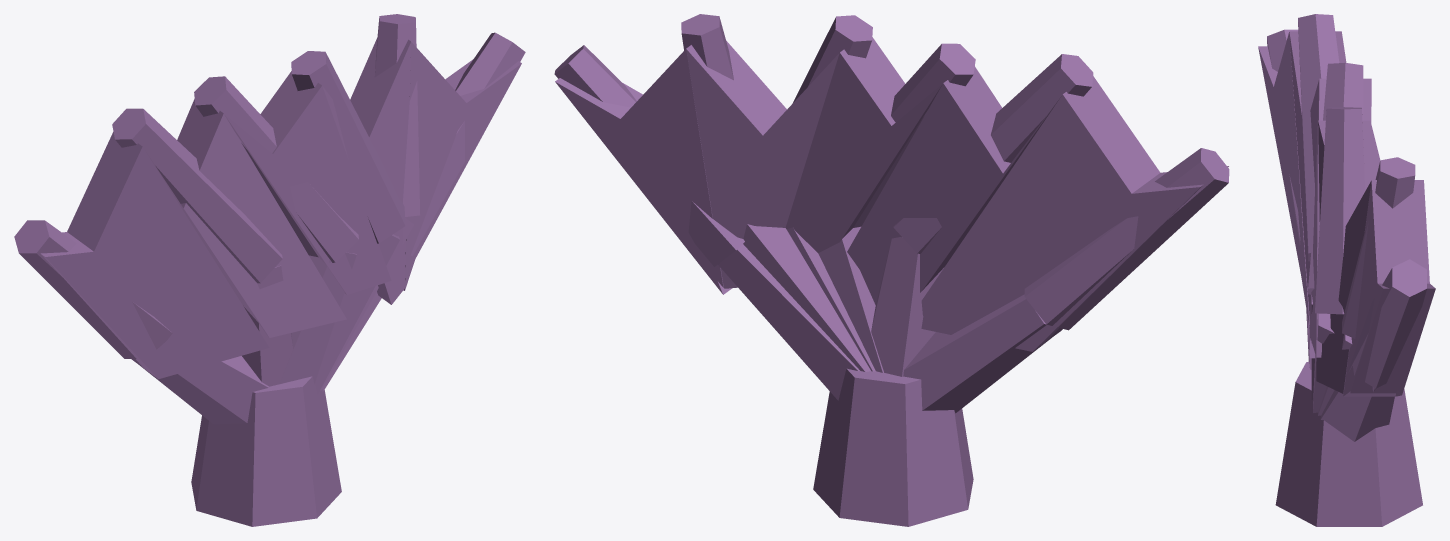
The model's file is coral_004a_fan.glb.
The picture shows the model from 3 angles, left to right: view 1: azimuth 30°, elevation 25°; view 2: azimuth 150°, elevation 25°; view 3: azimuth 270°, elevation 25°; orthographic projection. The views are drawn at different scales.
Visible parts, largest first — view 1: coral_004a_fan__mesh; view 2: coral_004a_fan__mesh; view 3: coral_004a_fan__mesh.
Boxes of the visible parts, <box> form: coral_004a_fan__mesh: <box>14,14,525,526</box>; coral_004a_fan__mesh: <box>554,14,1229,526</box>; coral_004a_fan__mesh: <box>1258,14,1435,526</box>.
Bounding box in the file's own units: 1.05 × 0.7622 × 0.2932.
